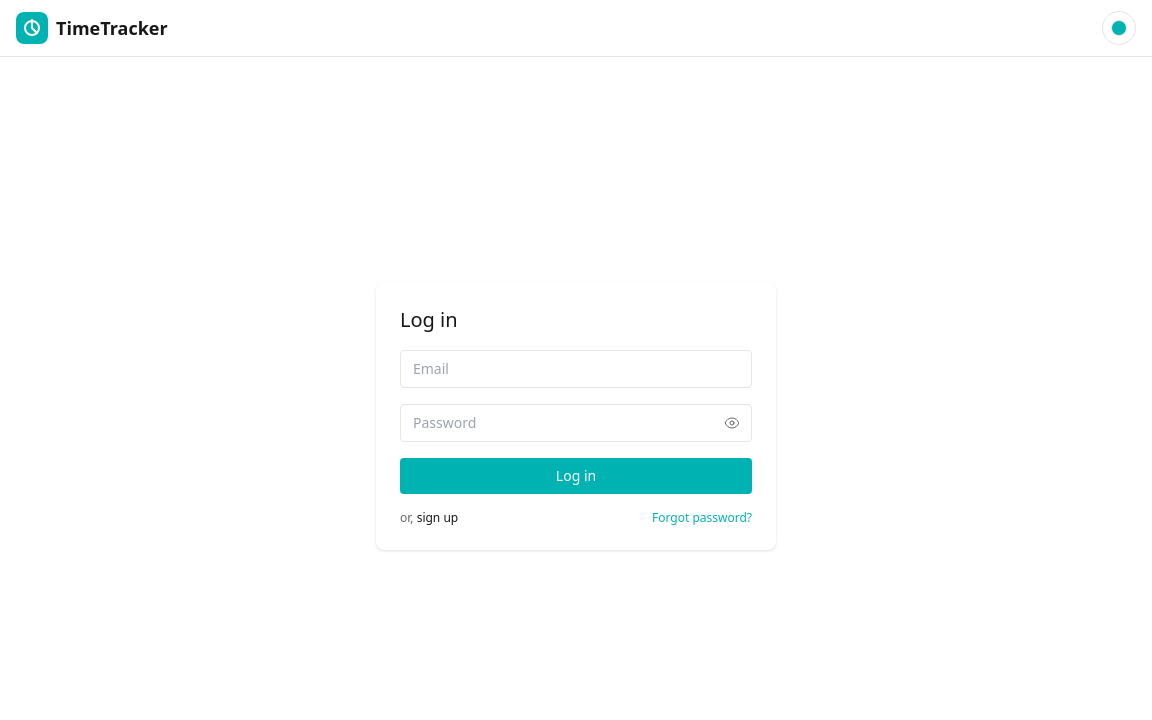
Test: Login and User Dashboard › should show an error message for invalid login
Note: Fill in the login form with invalid credentials
Type "invalid@example.com" into the field named "email" at (576, 369), box [400,350,752,388]
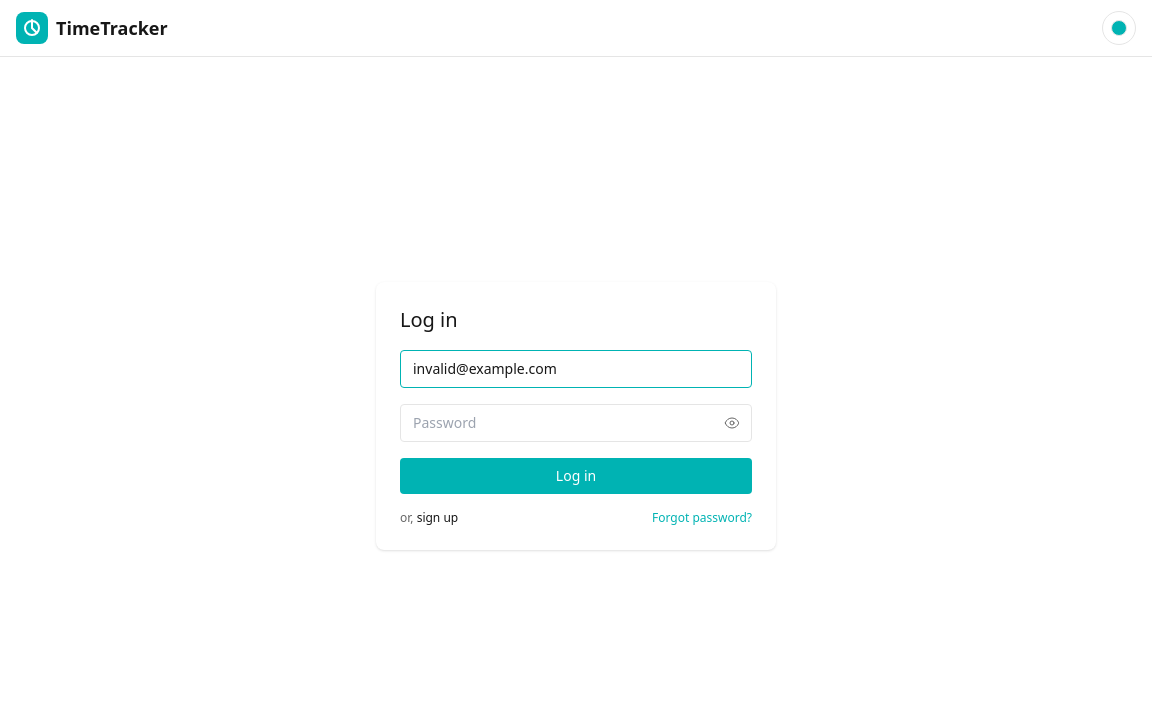
Type "wrongpassword" into the password field named "password" at (576, 423), box [400,404,752,442]
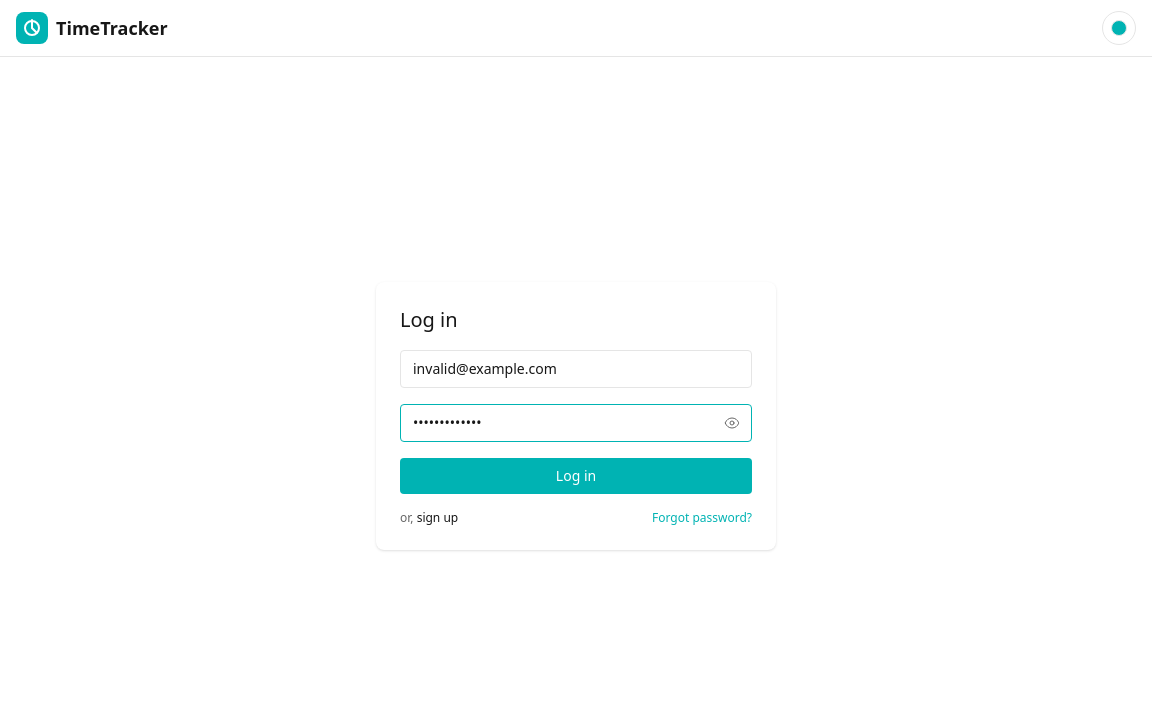
Note: Submit the form
Click the submit button at (576, 476), box [400,458,752,494]
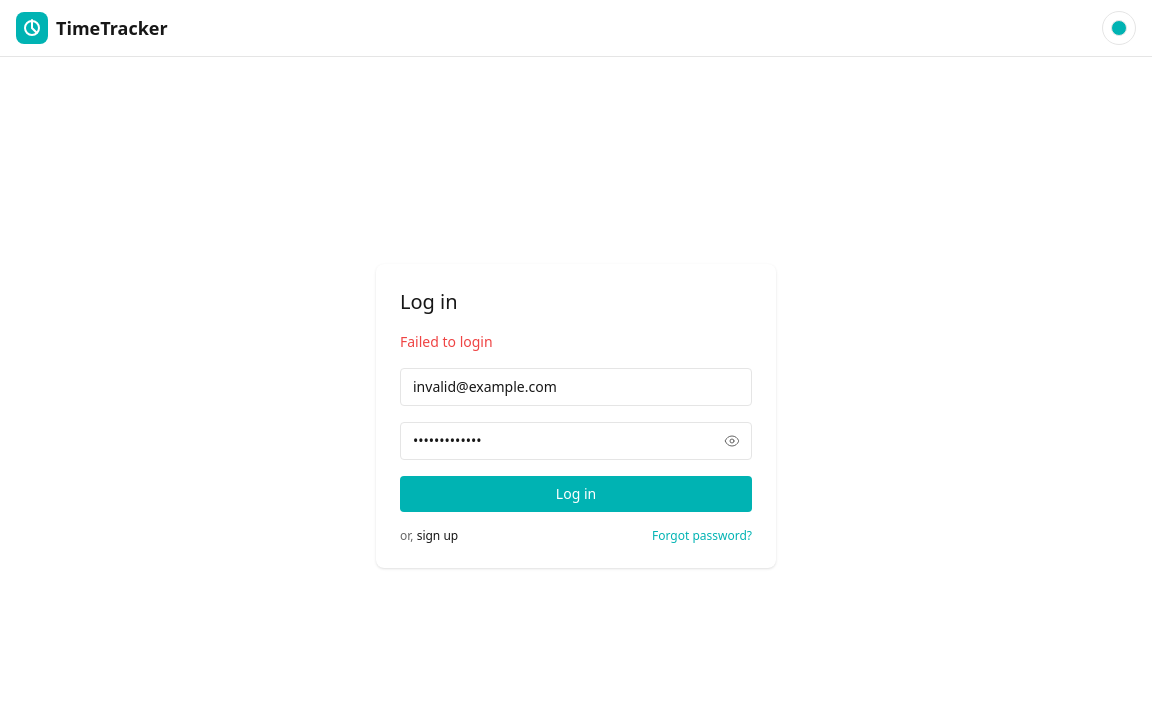
Now the text "Failed to login" is shown, box [400,332,493,351]
